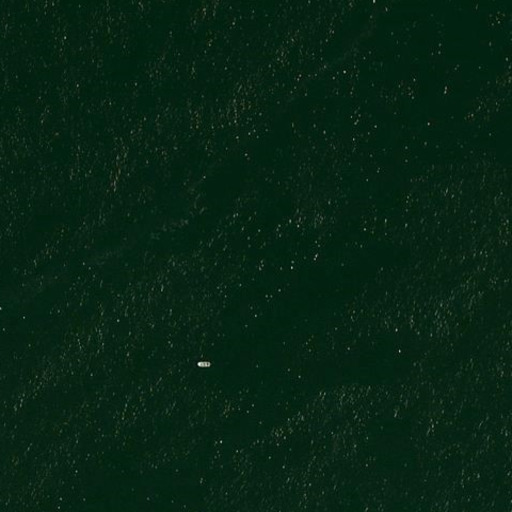ship: (194, 359, 215, 370)
